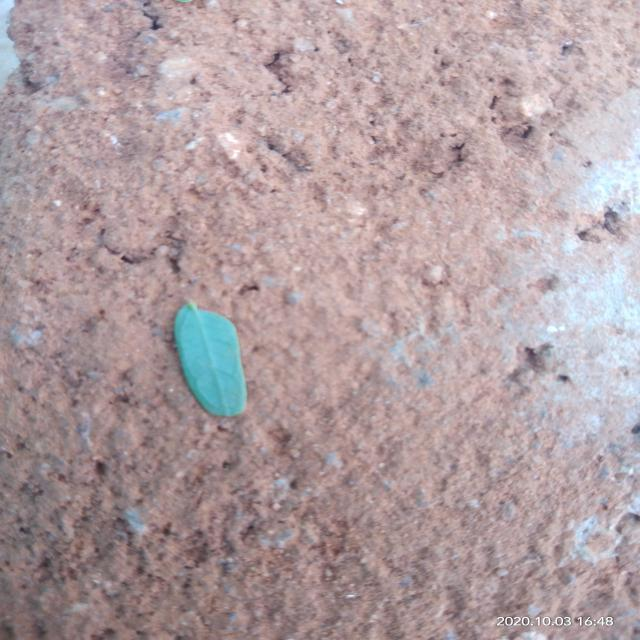tamarind: (175, 302, 247, 416)
